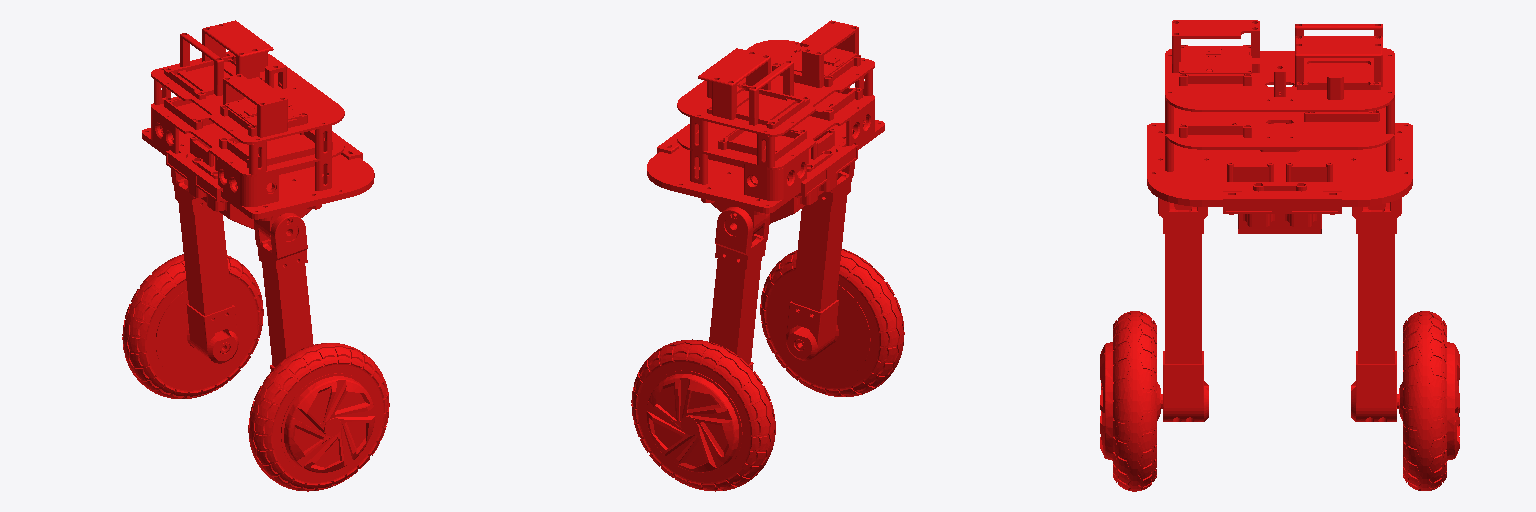
robot.urdf — HoverRobot:
<?xml version="1.0" encoding="utf-8"?>
<!-- This URDF was automatically created by SolidWorks to URDF Exporter! Originally created by [author] ([email redacted]) 
     Commit Version: 1.6.0-4-g7f85cfe  Build Version: 1.6.7995.38578
     For more information, please see http://wiki.ros.org/sw_urdf_exporter -->
<robot
  name="HoverRobot">
  <link
    name="base_link">
    <visual>
      <origin
        xyz="0 0 0"
        rpy="0 0 0" />
      <geometry>
        <mesh
          filename="package://hoverrobot_description/meshes/base_link.STL" />
      </geometry>
      <material
        name="">
        <color
          rgba="0.9451 0.11373 0.11373 1" />
      </material>
    </visual>
    <collision>
      <origin
        xyz="0 0 0"
        rpy="0 0 0" />
      <geometry>
        <mesh
          filename="package://hoverrobot_description/meshes/base_link.STL" />
      </geometry>
    </collision>
  </link>
</robot>

--- Facts derived from the render (not from the file) ---
3 views of the same robot in one strip: view 1: azimuth 30°, elevation 25°; view 2: azimuth 150°, elevation 25°; view 3: azimuth 270°, elevation 25° (orthographic).
Robot: HoverRobot — 1 links, 0 joints (none); root link base_link; default pose: all joints at 0.
Links seen in each view (by area): view 1: base_link; view 2: base_link; view 3: base_link.
Boxes of the visible links, bbox=[...] form: base_link: bbox=[122, 20, 389, 491]; base_link: bbox=[631, 20, 904, 491]; base_link: bbox=[1100, 20, 1459, 491].
Bounding box of the posed robot: 0.2174 × 0.393 × 0.5314 m (x, y, z).
Meshes: 1 distinct files referenced, 1 mesh visuals loaded (1 binary STL).